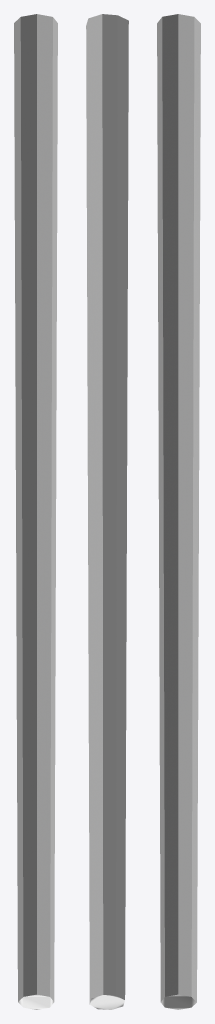
3 views of the same model, side by side, from view 1: azimuth 90°, elevation 25°; view 2: azimuth 150°, elevation 25°; view 3: azimuth 270°, elevation 25° (orthographic).
Parts seen in each view (by area): view 1: model25; view 2: model25; view 3: model25.
Part boxes in pixels (box(x1,y1,x2,y2)): model25: box(14, 14, 57, 1009); model25: box(86, 14, 128, 1009); model25: box(157, 14, 200, 1009).
Size of the model in its own units: 0.2758 by 6.75 by 0.2744.
1 material, 1 textured.
